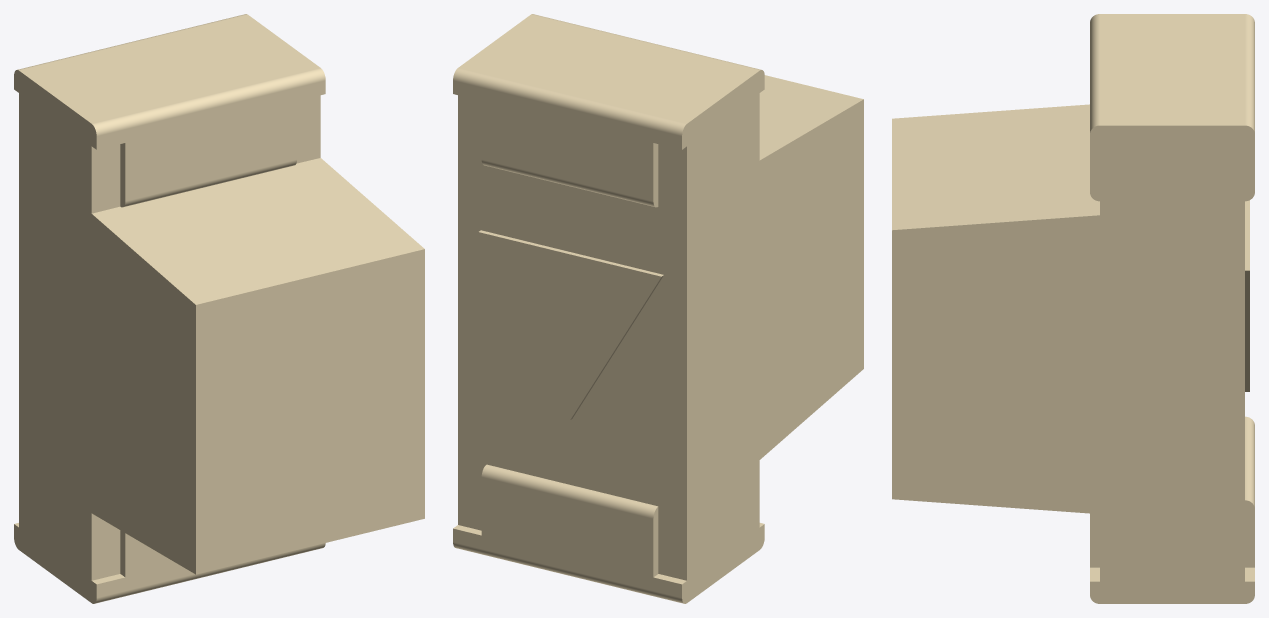
Rendered from esp32_Wroom_30pins_C_Type_32.gltf.
3 renders of one model, left to right at view 1: azimuth 30°, elevation 25°; view 2: azimuth 150°, elevation 25°; view 3: azimuth 270°, elevation 25°, orthographic.
Visible parts, largest first — view 1: mesh5588, mesh5587, mesh5586, mesh5567, mesh5578, mesh5568, mesh5594, mesh5584, mesh5590, mesh5585, mesh5577, mesh5583; view 2: mesh5588, mesh5559, mesh5567, mesh5555, mesh5574, mesh5565, mesh5586, mesh5566, mesh5571, mesh5575, mesh5562, mesh5558; view 3: mesh5593, mesh5586, mesh5567, mesh5566, mesh5568, mesh5571, mesh5572, mesh5556, mesh5596, mesh5581, mesh5561.
Part boxes in pixels (x1,y1,x2,y2): mesh5588: (14, 70, 195, 603); mesh5587: (196, 249, 424, 574); mesh5586: (92, 158, 424, 304); mesh5567: (19, 15, 320, 123); mesh5578: (96, 80, 325, 201); mesh5568: (92, 68, 325, 136); mesh5594: (96, 533, 194, 597); mesh5584: (91, 144, 120, 213); mesh5590: (91, 513, 120, 580); mesh5585: (296, 95, 320, 163); mesh5577: (95, 543, 325, 603); mesh5583: (124, 159, 296, 206); mesh5588: (682, 70, 863, 603); mesh5559: (458, 95, 686, 580); mesh5567: (458, 15, 759, 123); mesh5555: (478, 232, 661, 419); mesh5574: (453, 477, 681, 597); mesh5565: (453, 80, 681, 200); mesh5586: (759, 75, 863, 160); mesh5566: (453, 68, 686, 136); mesh5571: (481, 464, 657, 518); mesh5575: (453, 542, 683, 603); mesh5562: (481, 159, 655, 207); mesh5558: (479, 230, 663, 276); mesh5593: (892, 125, 1254, 603); mesh5586: (892, 104, 1099, 230); mesh5567: (1100, 14, 1244, 125); mesh5566: (1245, 14, 1254, 132); mesh5568: (1090, 14, 1099, 132); mesh5571: (1245, 416, 1254, 507); mesh5572: (1245, 500, 1254, 567); mesh5556: (1245, 270, 1249, 391); mesh5596: (1090, 513, 1099, 567); mesh5581: (1090, 148, 1099, 201); mesh5561: (1245, 148, 1254, 201).
Size of the model in its own units: 0.0008 by 0.0016 by 0.0011.
